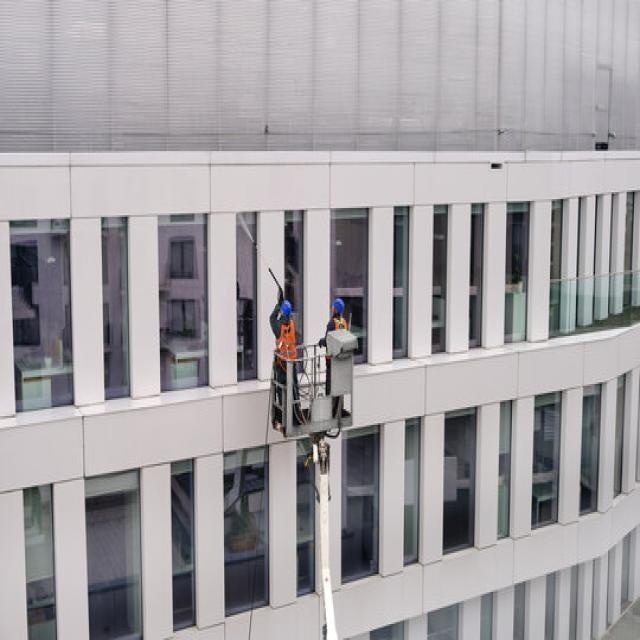Arnes_seguridad: (273, 312, 297, 367), (332, 315, 346, 330)
